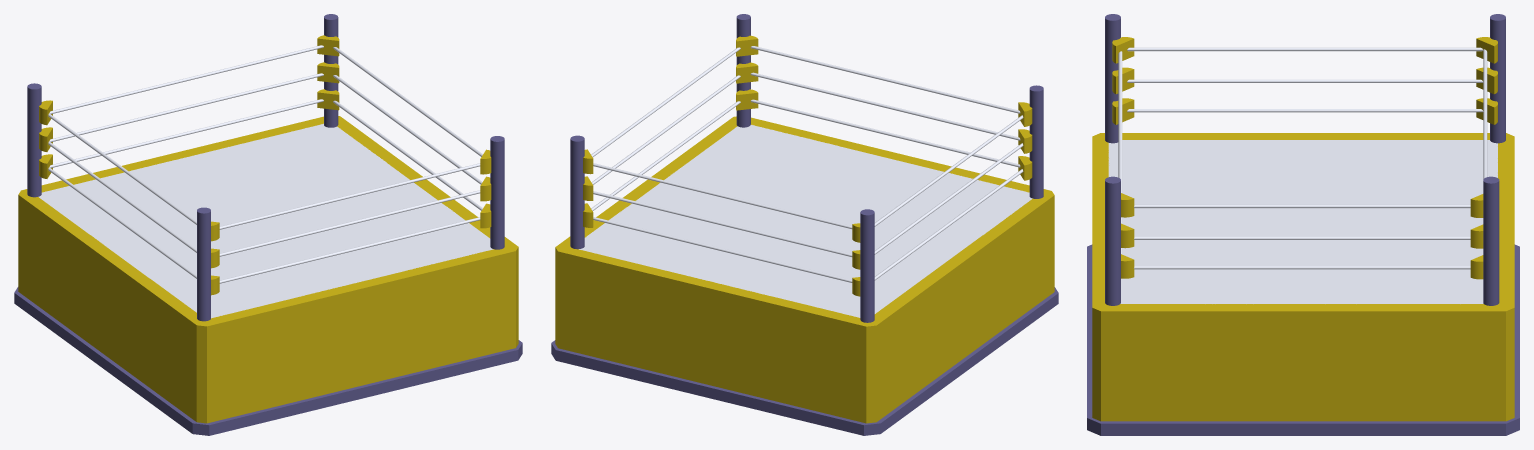
Rendered from RingWAC.fbx.
3 renders of one model, left to right at view 1: azimuth 30°, elevation 25°; view 2: azimuth 150°, elevation 25°; view 3: azimuth 270°, elevation 25°, orthographic. The views are drawn at different scales.
Visible parts, largest first — view 1: mergedBlocks; view 2: mergedBlocks; view 3: mergedBlocks.
Part boxes in pixels (<box>): mergedBlocks: <box>14,14,522,435</box>; mergedBlocks: <box>551,14,1058,435</box>; mergedBlocks: <box>1087,14,1519,435</box>.
Bounding box in the file's own units: 32.05 × 20 × 32.05.
